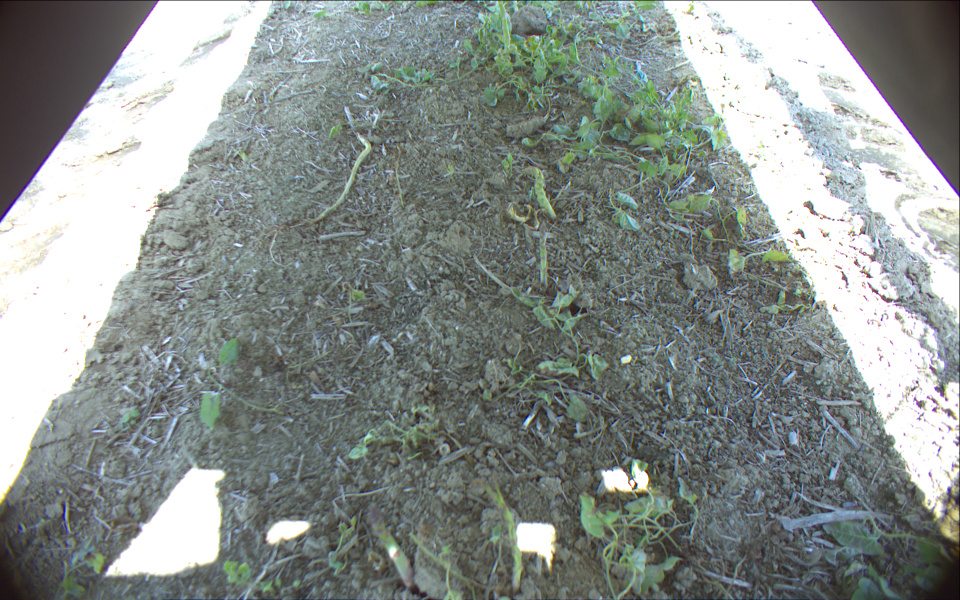aspa: (306, 132, 373, 222), (484, 490, 525, 592), (368, 508, 415, 585), (536, 169, 557, 218), (538, 219, 547, 287), (498, 1, 510, 51)
